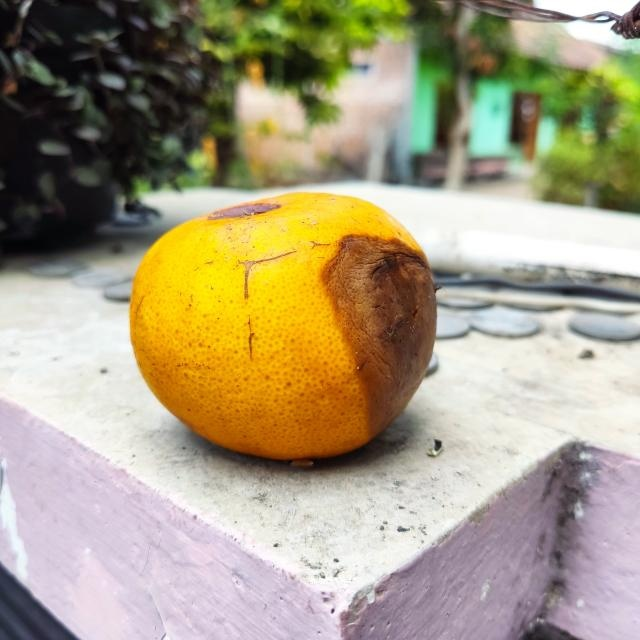agrume: (126, 189, 437, 464)
